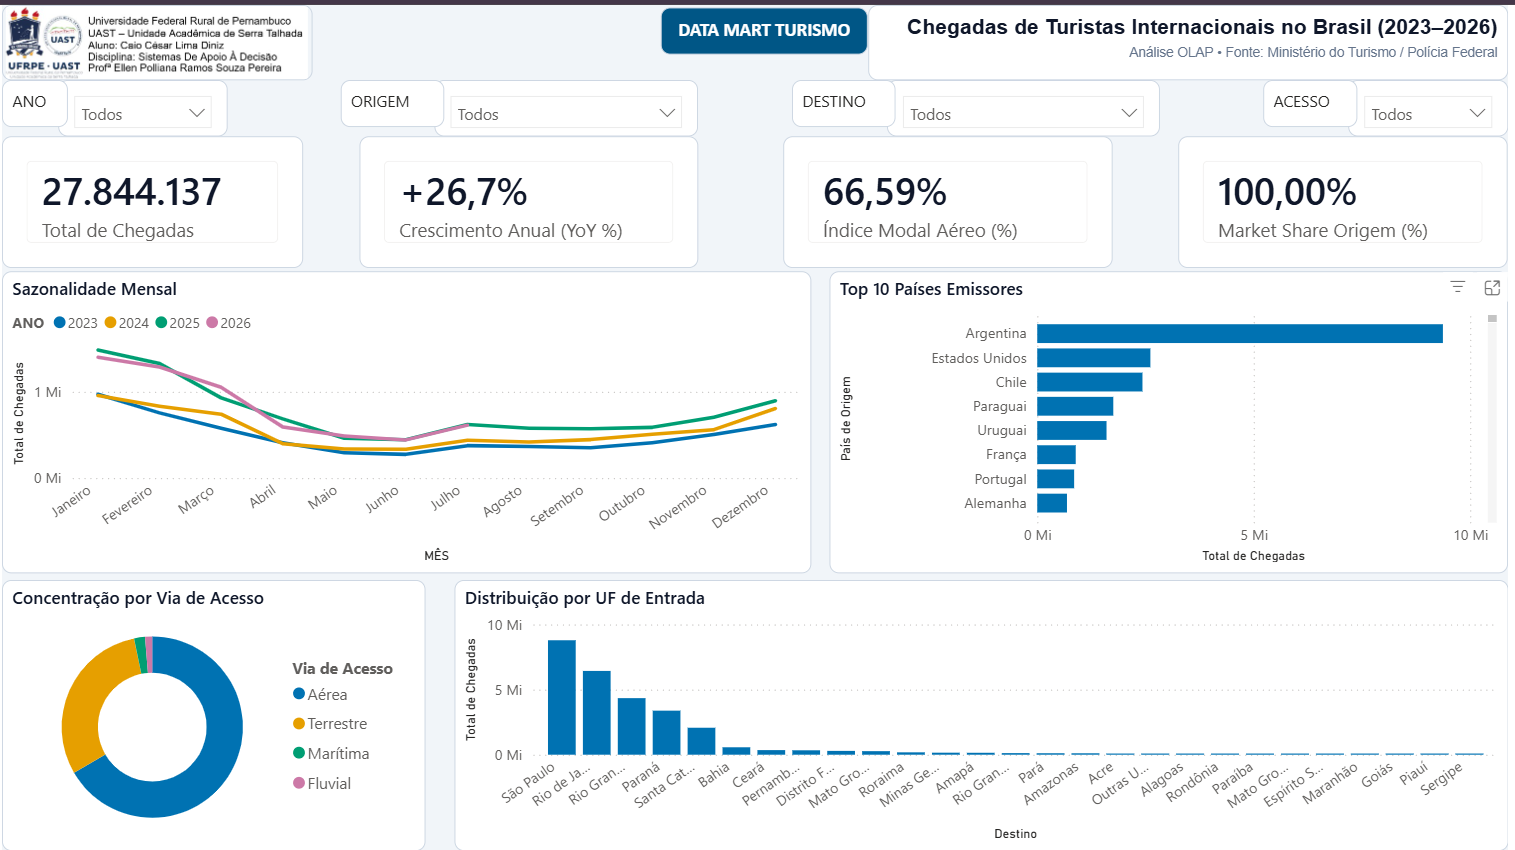

What the dashboard file says about the page in this screenshot:
{"tool":"powerbi","page":{"name":"Página 1","canvas":[1280,720],"ordinal":0},"visuals":[{"type":"image","box":[0,0,264,64],"z":0},{"type":"slicer","fields":{"Values":["public dim_tempo.ano","public dim_tempo.mes"]},"box":[48,64,144,48],"z":0,"group":"g1"},{"type":"textbox","box":[0,64,56,40],"z":1000,"group":"g1"},{"type":"slicer","fields":{"Values":["public dim_pais_origem.pais_origem"]},"box":[368,64,224,48],"z":1000},{"type":"textbox","box":[560.2,1.9,176,39.9],"z":2000},{"type":"textbox","box":[736.3,0,543.7,64.2],"z":3000},{"type":"group","id":"g1","title":"Grupo 2","box":[0,64,192,48],"z":4000},{"type":"textbox","box":[288,64,88,40],"z":5000},{"type":"slicer","fields":{"Values":["public dim_uf_destino.uf_destino"]},"box":[751.9,64,232,48],"z":6000},{"type":"textbox","box":[671.9,64,88,40],"z":7000},{"type":"slicer","fields":{"Values":["public dim_via_acesso.descricao_via"]},"box":[1144,64,136,48],"z":8000},{"type":"textbox","box":[1072,64,80,40],"z":9000},{"type":"cardVisual","fields":{"Data":["public fato_chegadas.Total de Chegadas"]},"box":[0,112,256,112],"z":10000},{"type":"cardVisual","fields":{"Data":["public fato_chegadas.Crescimento Anual (YoY %)"]},"box":[304,112,288,112],"z":11000},{"type":"cardVisual","fields":{"Data":["public fato_chegadas.Índice Modal Aéreo (%)"]},"box":[664,112,280,112],"z":12000},{"type":"cardVisual","fields":{"Data":["public fato_chegadas.Market Share Origem (%)"]},"box":[1000,112,280,112],"z":13000},{"type":"lineChart","title":"Sazonalidade Mensal","fields":{"Category":["public dim_tempo.mes"],"Y":["public fato_chegadas.Total de Chegadas"],"Series":["public dim_tempo.ano"]},"box":[0,226.6,687.7,256.8],"z":14000},{"type":"clusteredBarChart","title":"Top 10 Países Emissores","fields":{"Category":["public dim_pais_origem.pais_origem"],"Y":["public fato_chegadas.Total de Chegadas"]},"box":[703.2,226.6,576.8,256.8],"z":15000},{"type":"donutChart","title":"Concentração por Via de Acesso","fields":{"Category":["public dim_via_acesso.descricao_via"],"Y":["public fato_chegadas.Total de Chegadas"]},"box":[0,488.3,359.9,230.5],"z":16000},{"type":"clusteredColumnChart","title":"Distribuição por UF de Entrada","fields":{"Category":["public dim_uf_destino.uf_destino"],"Y":["public fato_chegadas.Total de Chegadas"]},"box":[384.2,488.3,895.8,230.5],"z":17000}]}

Visuals, with their boxes in screenshot pixels (x1, y1, x2, y2), scaled from the page's 1280x720 canvas onto the 1515x850 screenshot:
image: [0,0,312,76]
slicer - public dim_tempo.ano x public dim_tempo.mes: [57,76,227,132]
textbox: [0,76,66,123]
slicer - public dim_pais_origem.pais_origem: [436,76,701,132]
textbox: [663,2,871,49]
textbox: [871,0,1514,76]
"Grupo 2" group: [0,76,227,132]
textbox: [341,76,445,123]
slicer - public dim_uf_destino.uf_destino: [890,76,1165,132]
textbox: [795,76,899,123]
slicer - public dim_via_acesso.descricao_via: [1354,76,1514,132]
textbox: [1269,76,1364,123]
cardVisual - public fato_chegadas.Total de Chegadas: [0,132,303,264]
cardVisual - public fato_chegadas.Crescimento Anual (YoY %): [360,132,701,264]
cardVisual - public fato_chegadas.Índice Modal Aéreo (%): [786,132,1117,264]
cardVisual - public fato_chegadas.Market Share Origem (%): [1184,132,1514,264]
"Sazonalidade Mensal" lineChart: [0,268,814,571]
"Top 10 Países Emissores" clusteredBarChart: [832,268,1514,571]
"Concentração por Via de Acesso" donutChart: [0,576,426,849]
"Distribuição por UF de Entrada" clusteredColumnChart: [455,576,1514,849]
